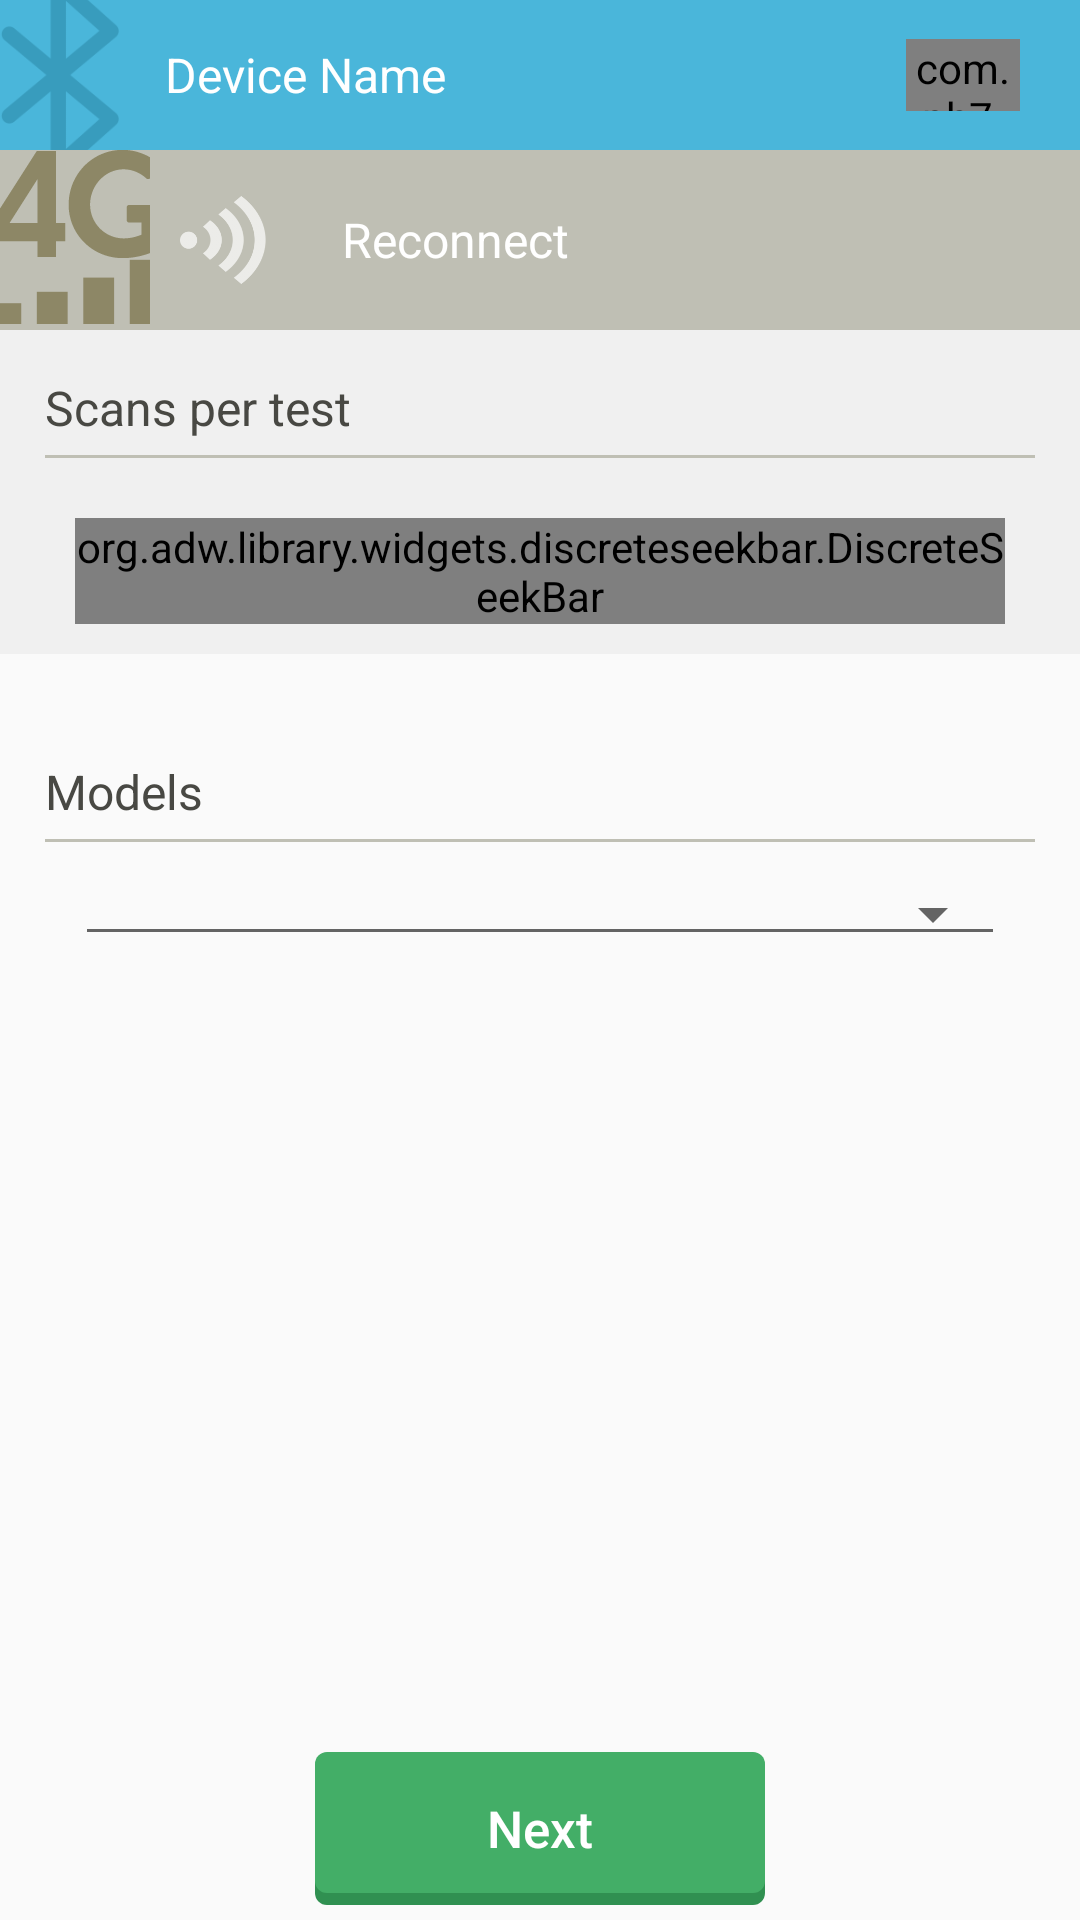

Icons on this 1080*1920 Android screen, each with its box as (x1, y1, x2, y2):
network operator: (0, 151, 150, 324)
wifi signal: (180, 196, 266, 284)
